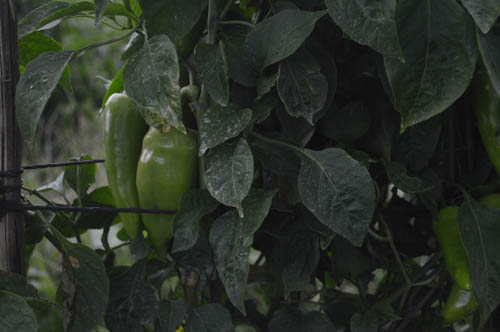ChiliPepper: (134, 116, 198, 256), (441, 193, 500, 321), (99, 94, 145, 241), (433, 204, 480, 293), (470, 62, 500, 172)
